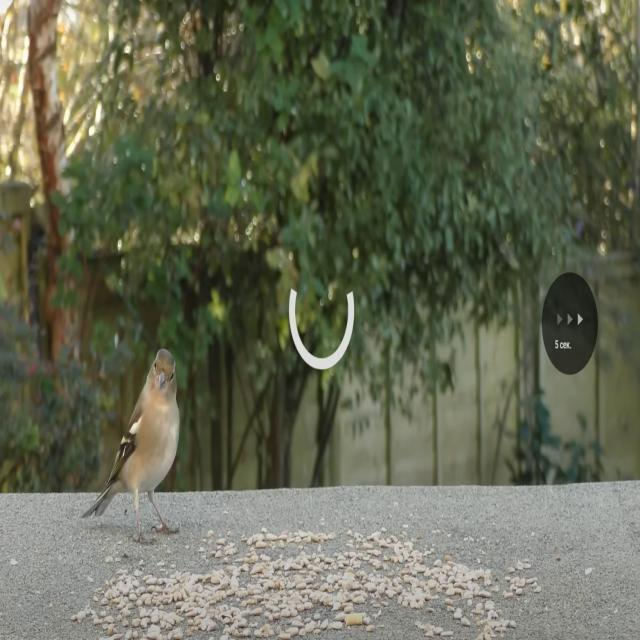beak: (156, 370, 166, 390)
bird: (84, 344, 189, 539)
